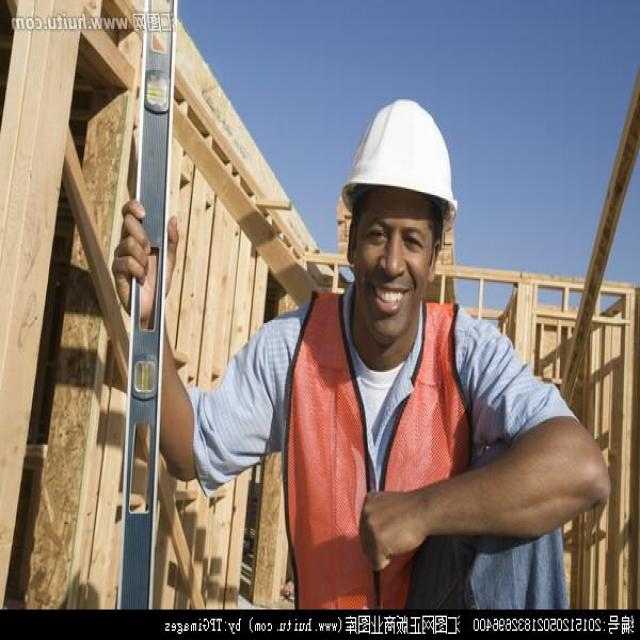Reflective-Jacket: (269, 289, 483, 606)
Safety-Helmet: (335, 94, 462, 218)
